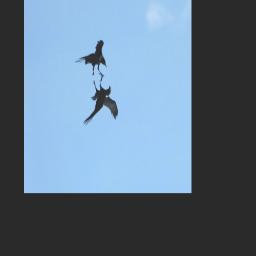Crow: (78, 71, 119, 128)
